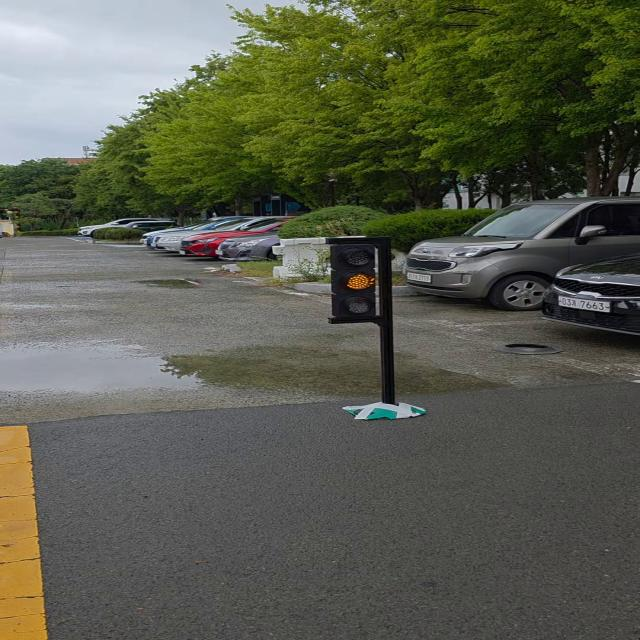yellow: (330, 238, 382, 324)
